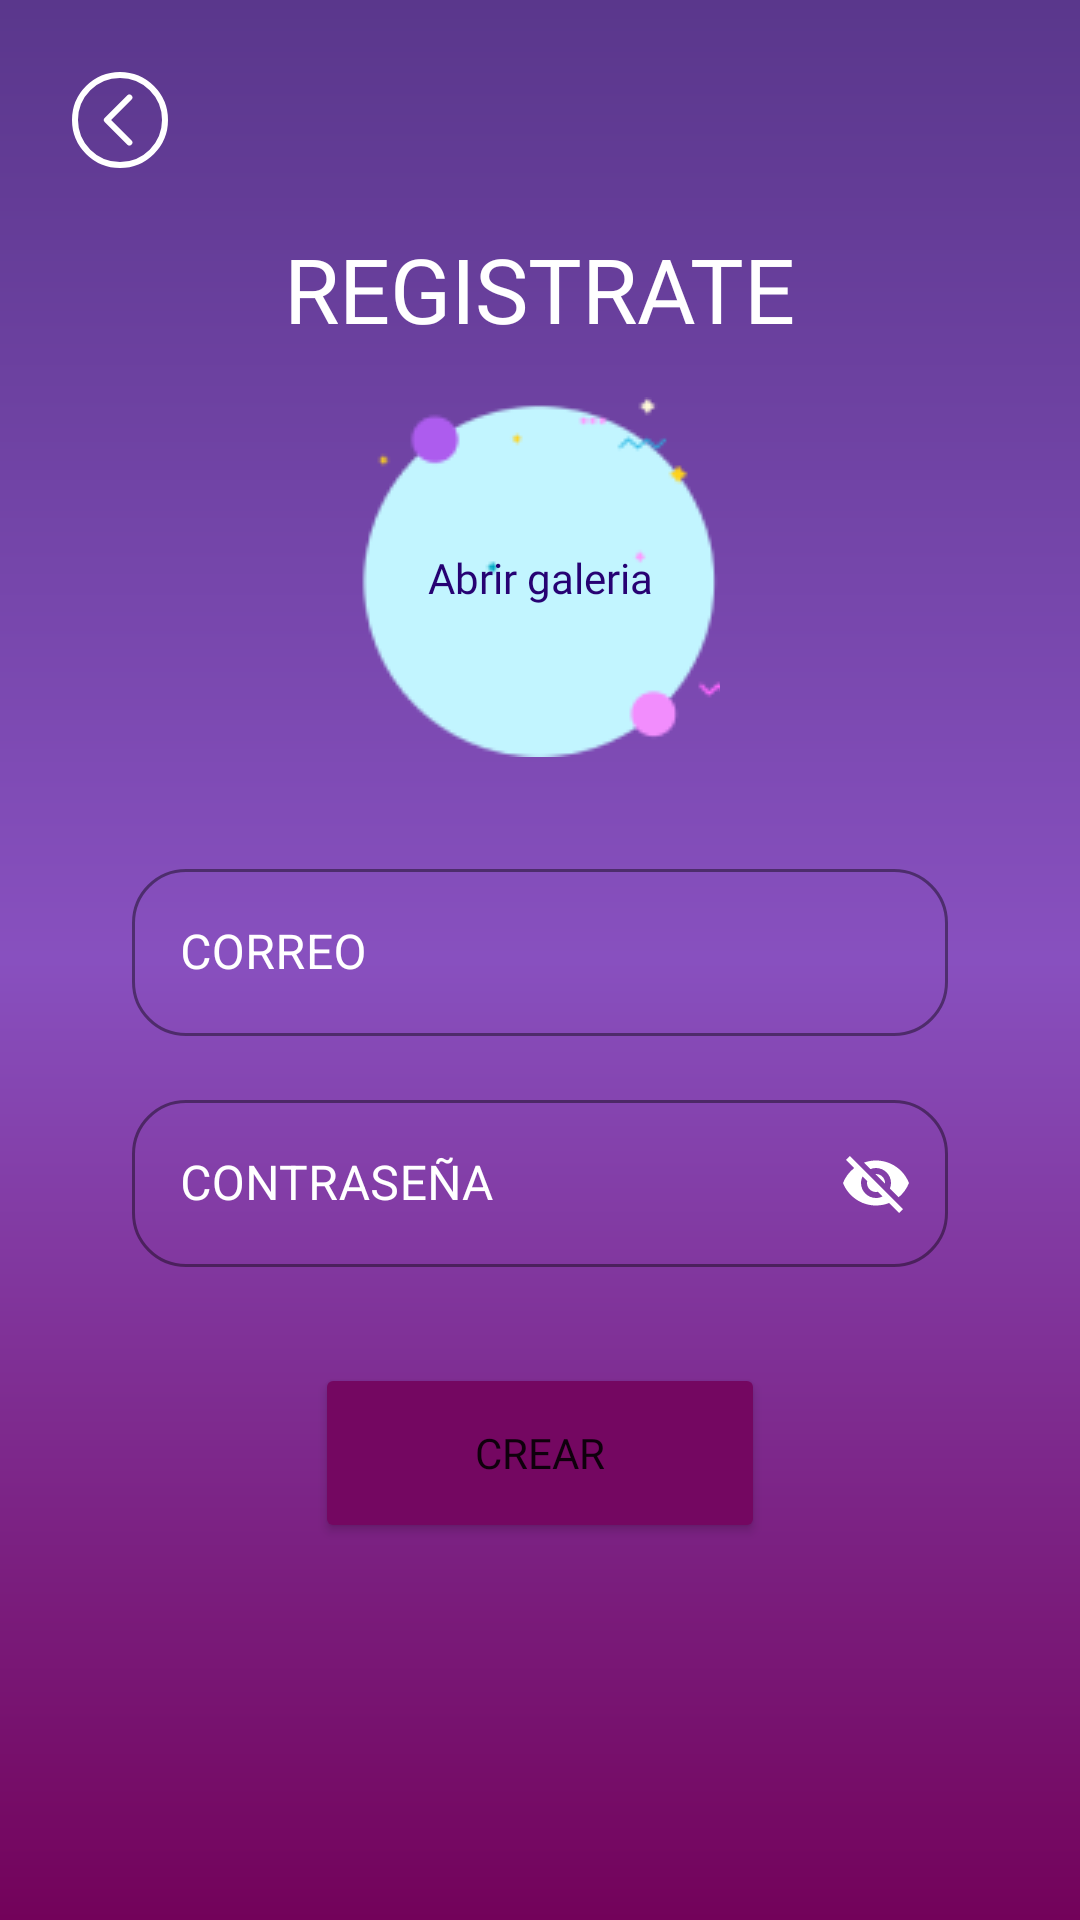

Screen size 1080w x 1920h. Icon name, then its center in pixels as point (x, y):
back: point (120, 120)
